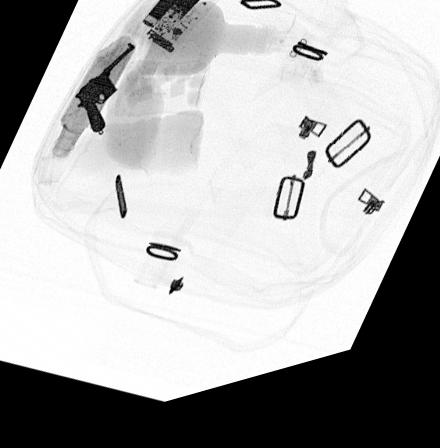Gun: (74, 48, 136, 142)
